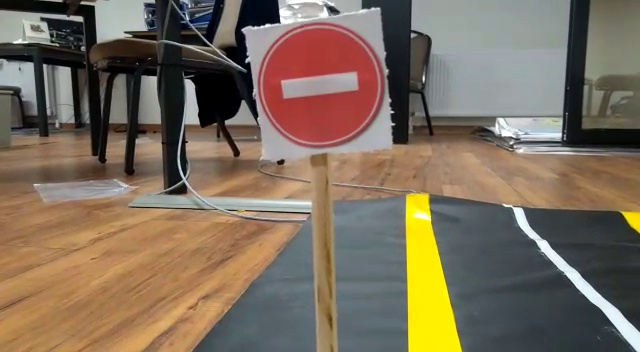girisi_olmayan_yol: (248, 19, 388, 150)
